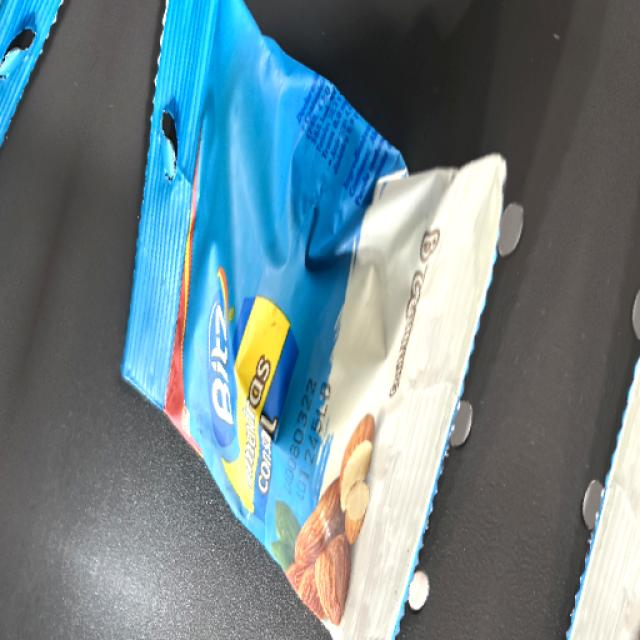bitzAlmendras: (162, 66, 493, 574)
